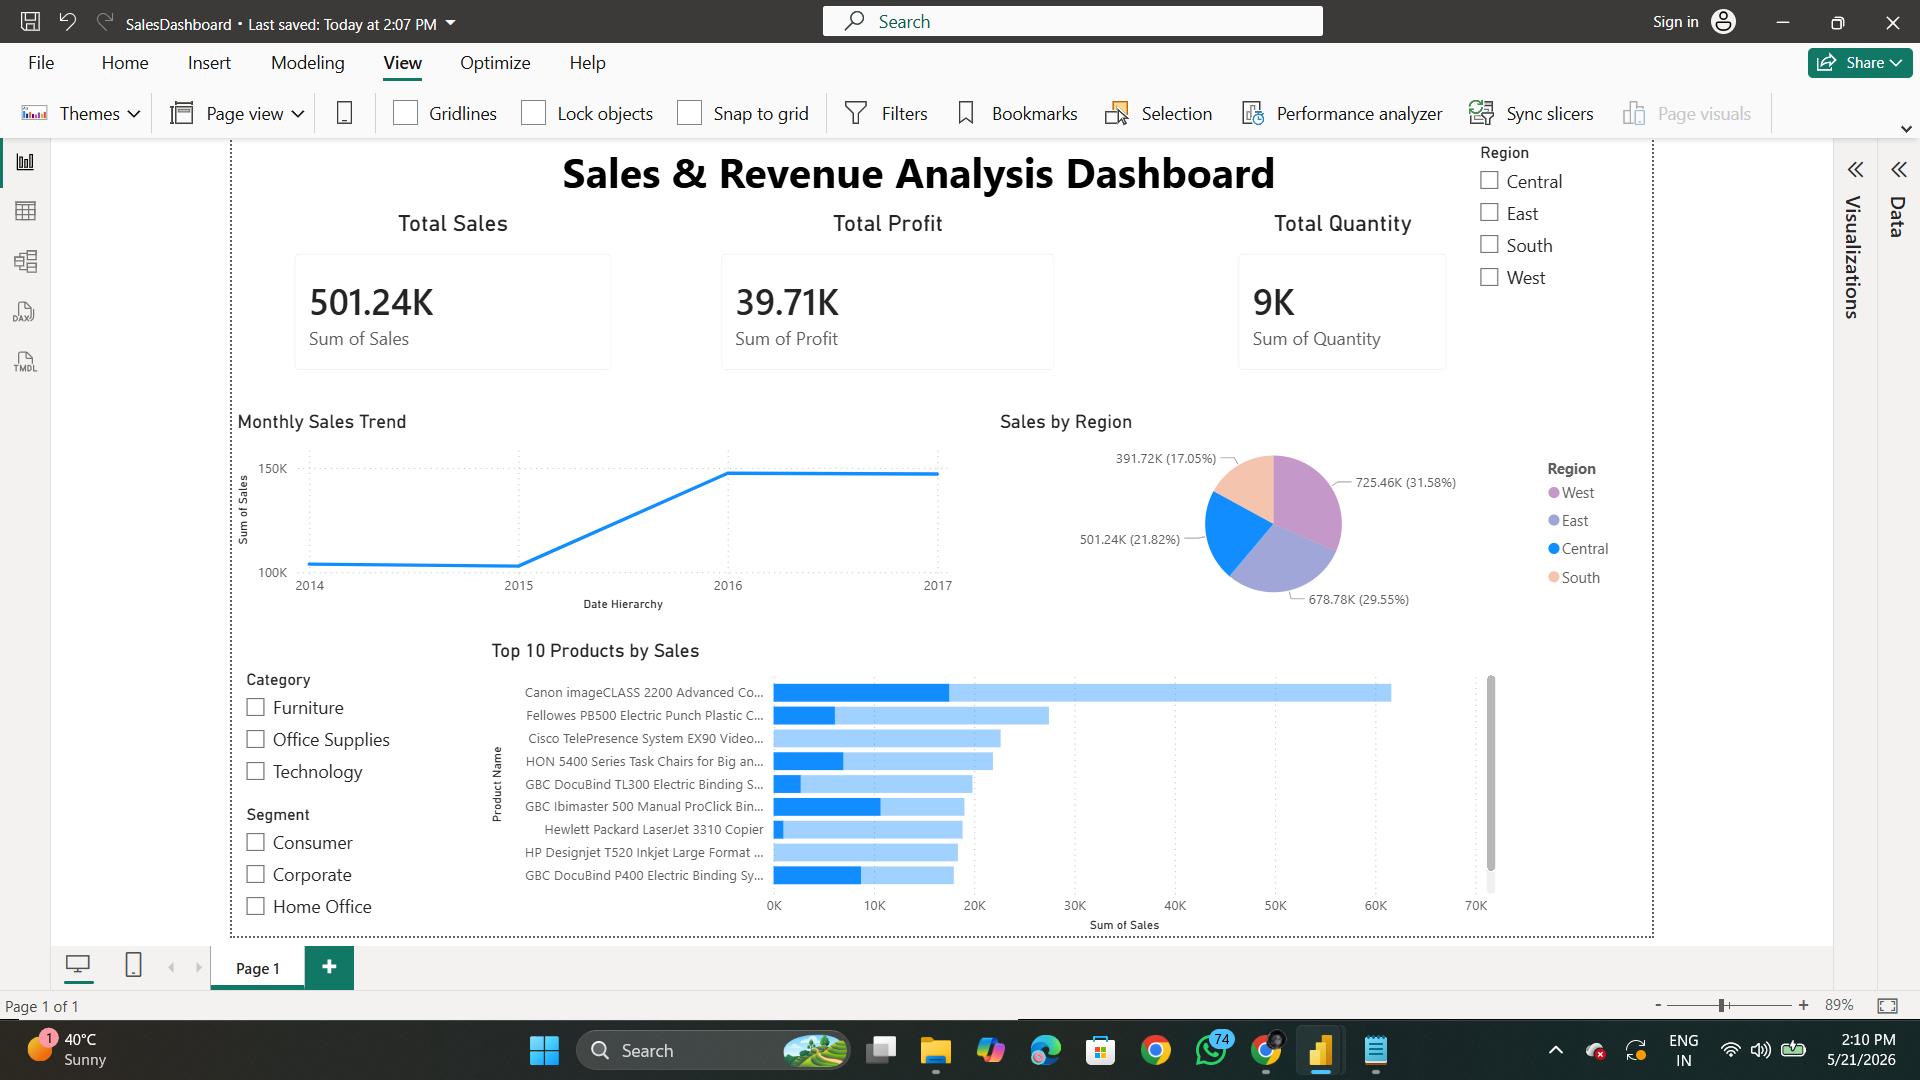

The page's visual inventory and layout, read from the dashboard file:
{"tool":"powerbi","page":{"name":"Page 1","canvas":[1280,720],"ordinal":0},"visuals":[{"type":"cardVisual","title":"Total Sales","fields":{"Data":["Sum(Sample - Superstore.Sales)"]},"box":[40,64.3,320,162.9],"z":0},{"type":"cardVisual","title":"Total Profit","fields":{"Data":["Sum(Sample - Superstore.Profit)"]},"box":[424.3,64.3,335.7,162.9],"z":1000},{"type":"cardVisual","title":"Total Quantity","fields":{"Data":["Sum(Sample - Superstore.Quantity)"]},"box":[890,64.3,222.9,162.9],"z":2000},{"type":"lineChart","title":"Monthly Sales Trend","fields":{"Category":["Sample - Superstore.Order Date.Variation.Date Hierarchy.Year","Sample - Superstore.Order Date.Variation.Date Hierarchy.Quarter","Sample - Superstore.Order Date.Variation.Date Hierarchy.Month","Sample - Superstore.Order Date.Variation.Date Hierarchy.Day"],"Y":["Sum(Sample - Superstore.Sales)"]},"box":[0,245.7,654.3,185.7],"z":3000},{"type":"pieChart","title":"Sales by Region","fields":{"Category":["Sample - Superstore.Region"],"Y":["Sum(Sample - Superstore.Sales)"]},"box":[687.1,245.7,568.6,185.7],"z":4000},{"type":"clusteredBarChart","title":"Top 10 Products by Sales","fields":{"Category":["Sample - Superstore.Product Name"],"Y":["Sum(Sample - Superstore.Sales)"]},"box":[228.6,451.4,915.7,268.6],"z":5000},{"type":"slicer","fields":{"Values":["Sample - Superstore.Region"]},"box":[1112.9,0,167.1,154.3],"z":6000},{"type":"slicer","fields":{"Values":["Sample - Superstore.Category"]},"box":[0,474.3,200,121.4],"z":7000},{"type":"textbox","box":[292.9,0,665.7,64.3],"z":7500},{"type":"slicer","fields":{"Values":["Sample - Superstore.Segment"]},"box":[0,595.7,167.1,118.6],"z":8000}]}

Visuals, with their boxes on the page's 1280x720 design canvas (x1, y1, x2, y2). These are canvas units, not pixel positions in the 1920x1080 screenshot, which may show the page scaled, cropped or inside an application window:
"Total Sales" cardVisual: <region>40, 64, 360, 227</region>
"Total Profit" cardVisual: <region>424, 64, 760, 227</region>
"Total Quantity" cardVisual: <region>890, 64, 1113, 227</region>
"Monthly Sales Trend" lineChart: <region>0, 246, 654, 431</region>
"Sales by Region" pieChart: <region>687, 246, 1256, 431</region>
"Top 10 Products by Sales" clusteredBarChart: <region>229, 451, 1144, 720</region>
slicer - Sample - Superstore.Region: <region>1113, 0, 1280, 154</region>
slicer - Sample - Superstore.Category: <region>0, 474, 200, 596</region>
textbox: <region>293, 0, 959, 64</region>
slicer - Sample - Superstore.Segment: <region>0, 596, 167, 714</region>
